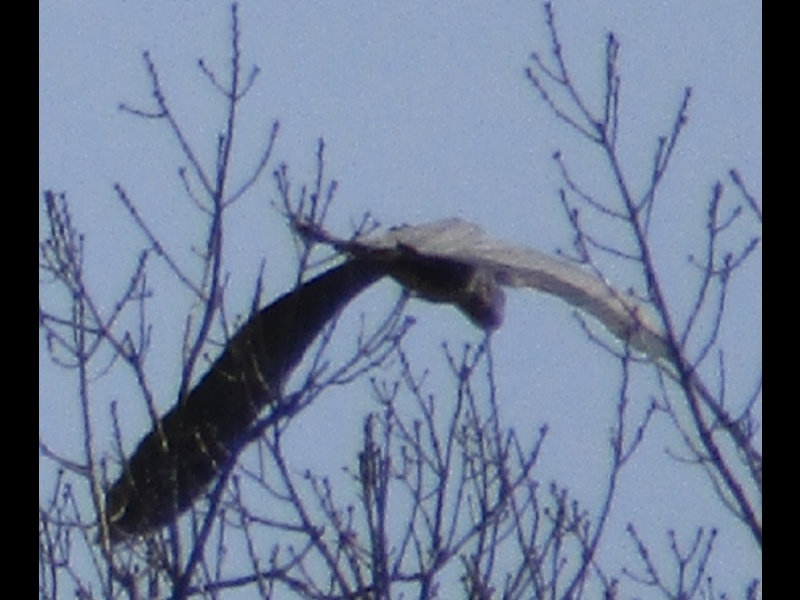heron: (94, 219, 724, 552)
